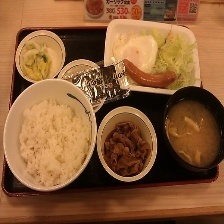rice: (16, 97, 93, 188)
